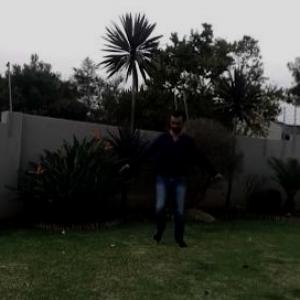land: (108, 102, 220, 244)
